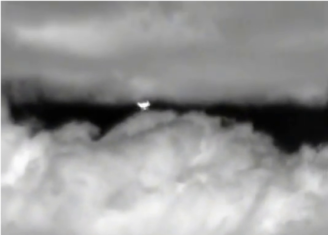Target: (138, 102, 150, 110)
